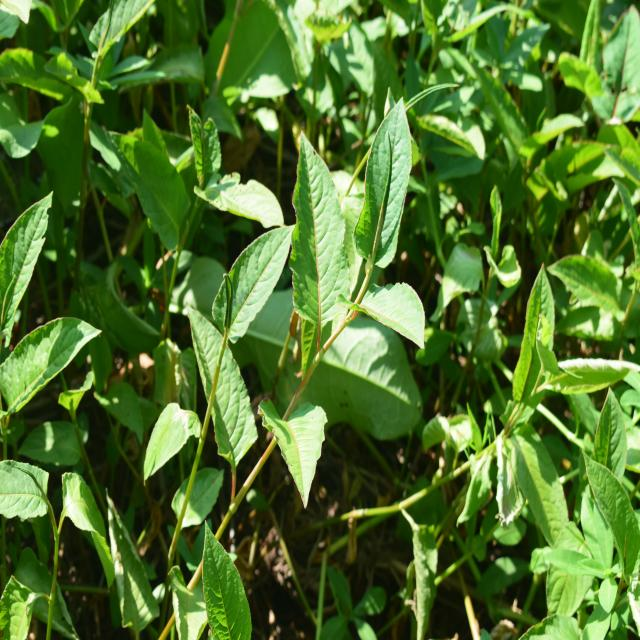Chinese_knotweed: (280, 100, 427, 384), (190, 236, 326, 539)
